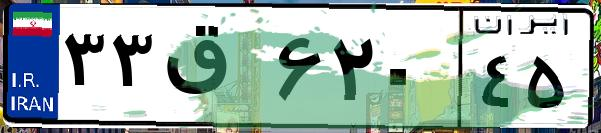0: (385, 28, 445, 110)
2: (330, 28, 385, 110)
3: (57, 26, 110, 100), (110, 28, 158, 98)
4: (475, 38, 525, 113)
5: (525, 38, 570, 115)
6: (270, 28, 330, 110)
ق: (158, 20, 270, 120)
